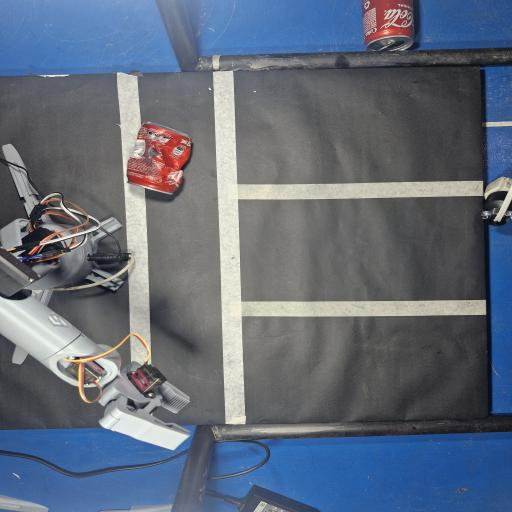lata_defectuoso: (127, 123, 191, 194)
